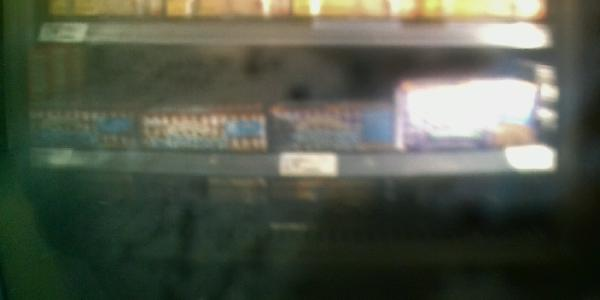icecream: (268, 101, 394, 201), (140, 111, 267, 209), (31, 107, 135, 203)
